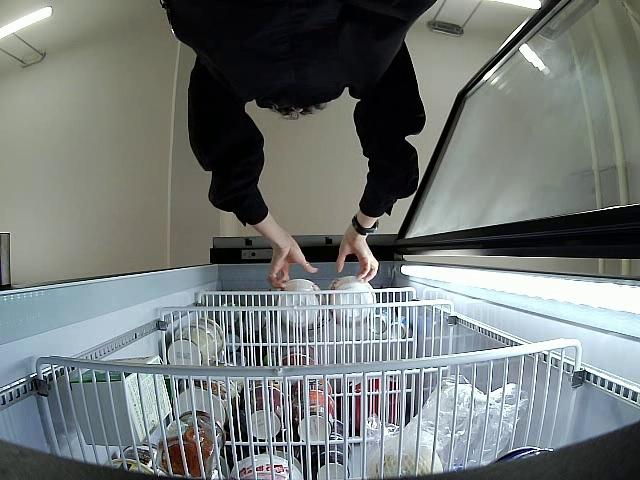00_hand: (268, 235, 320, 288), (336, 241, 379, 285)
